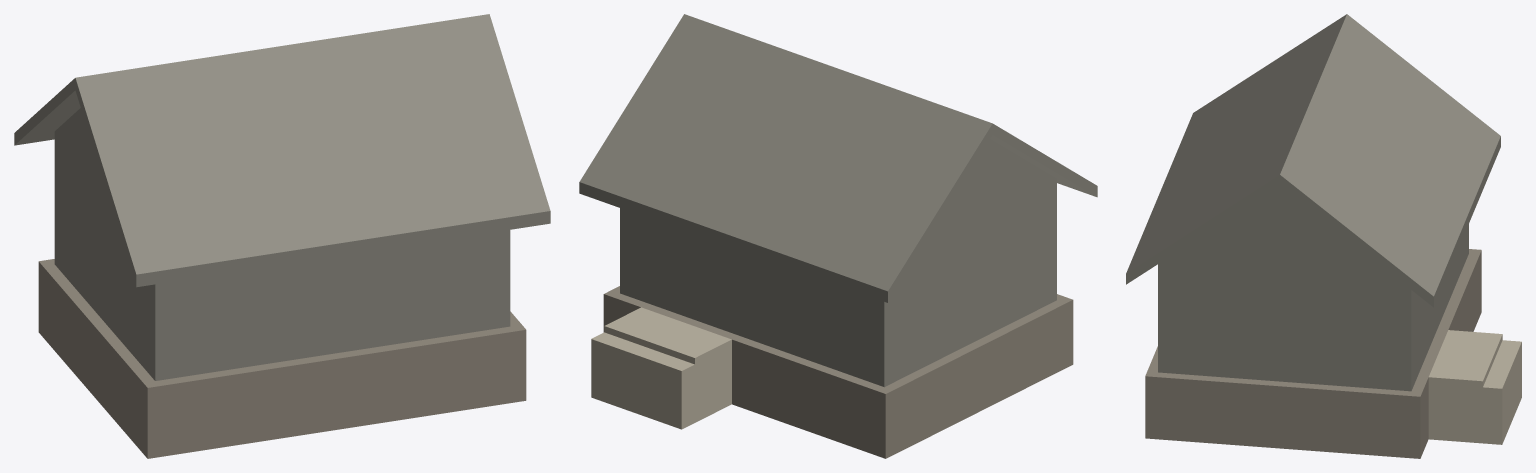
The model's file is SM_FishersCove_House4.fbx.
3 views of the same model, side by side, from view 1: azimuth 30°, elevation 25°; view 2: azimuth 150°, elevation 25°; view 3: azimuth 270°, elevation 25° (orthographic). The views are drawn at different scales.
Parts seen in each view (by area): view 1: SM_FishersCove_House4; view 2: SM_FishersCove_House4; view 3: SM_FishersCove_House4.
Boxes of the visible parts, <box> form: SM_FishersCove_House4: <box>14,14,550,458</box>; SM_FishersCove_House4: <box>579,14,1097,458</box>; SM_FishersCove_House4: <box>1126,14,1521,458</box>.
Bounding box in the file's own units: 7.09 × 5.06 × 6.46.
